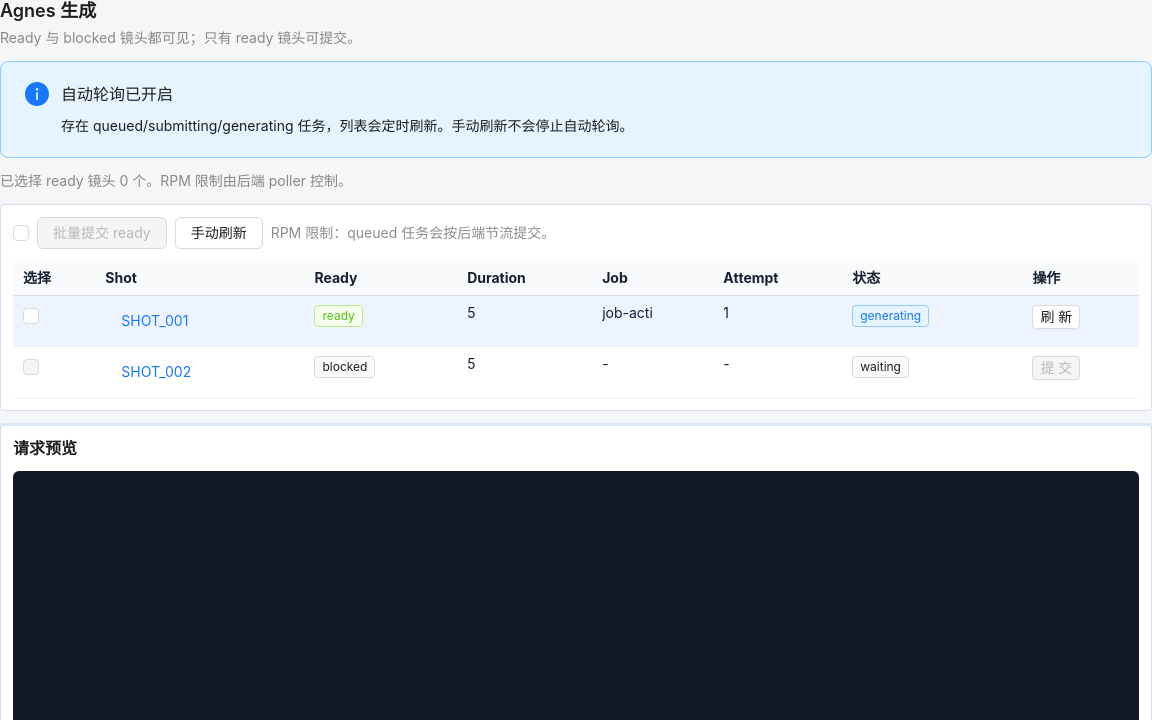
Scenario: AgnesGenerationTab › supports ready selection, batch submit, row preview, and polling live notice
This screenshot has width=1152, height=720.
Check: the message named "自动轮询状态" shows "自动轮询已开启", box left=61, top=84, right=173, bottom=104
Check: the checkbox named "选择 SHOT_002" is disabled, box left=23, top=356, right=39, bottom=378
Click the checkbox named "选择 SHOT_001" at (31,316), box left=23, top=305, right=39, bottom=327
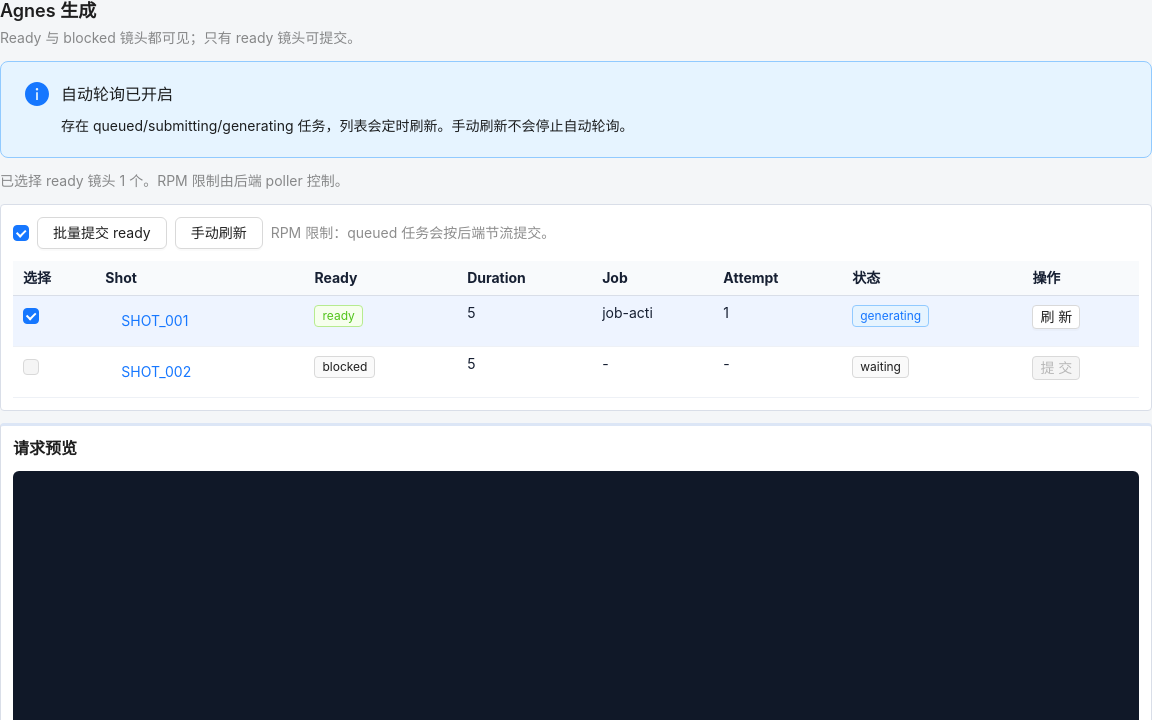
Check: the text "已选择 ready 镜头 1 个。RPM 限制由后端 poller 控制。" is shown, box left=0, top=172, right=349, bottom=189
Click the button "批量提交 ready" at (102,233), box left=37, top=217, right=167, bottom=249
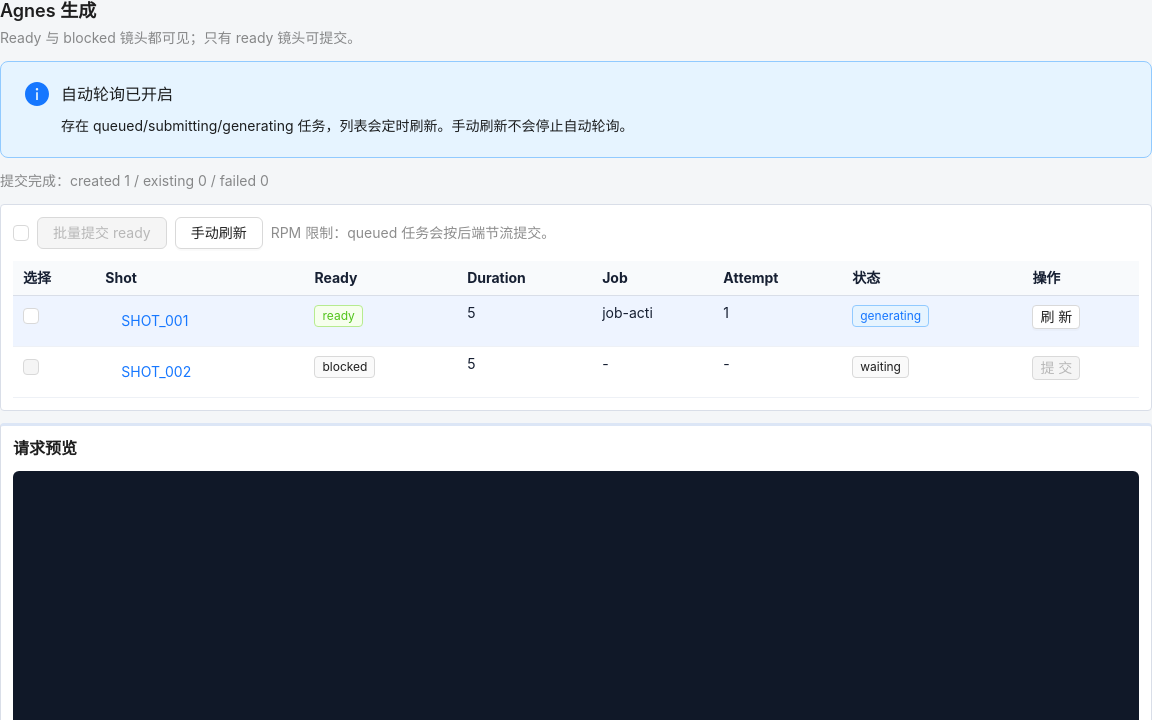
Check: the text "提交完成：created 1 / existing 0 / failed 0" is shown, box left=0, top=172, right=269, bottom=189
Click the button "SHOT_002" at (156,372), box left=105, top=356, right=207, bottom=388
(page scrolled)
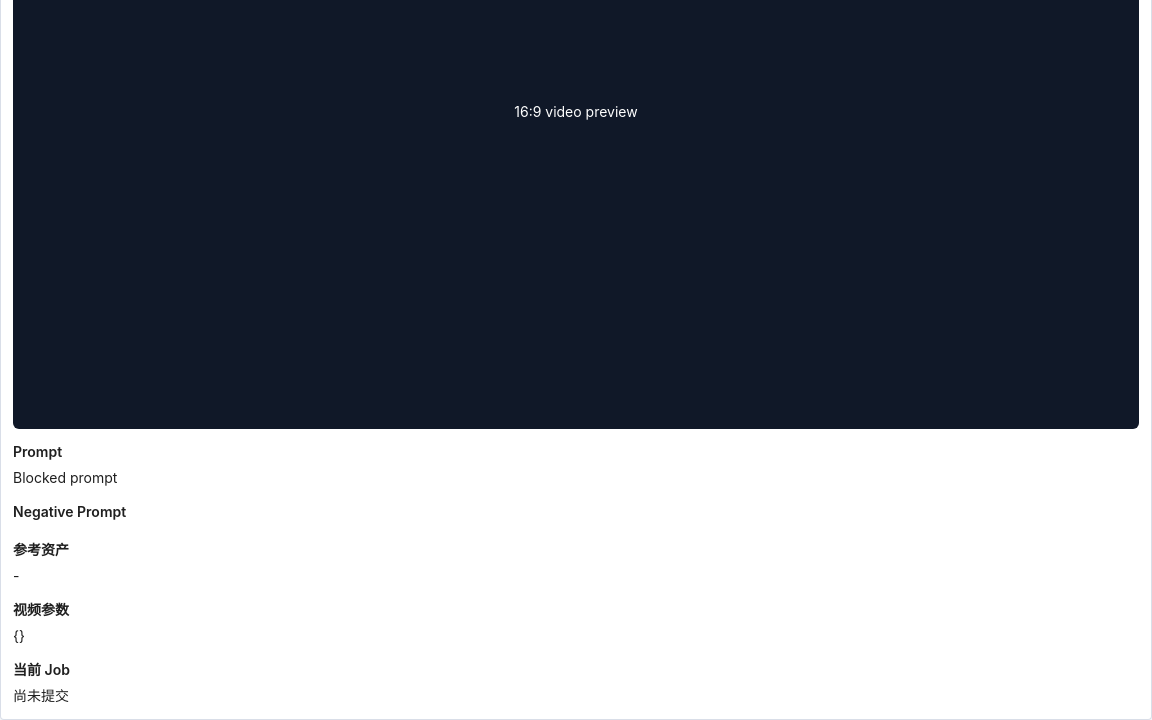
Check: the text "Blocked prompt" is shown, box left=13, top=469, right=117, bottom=486
